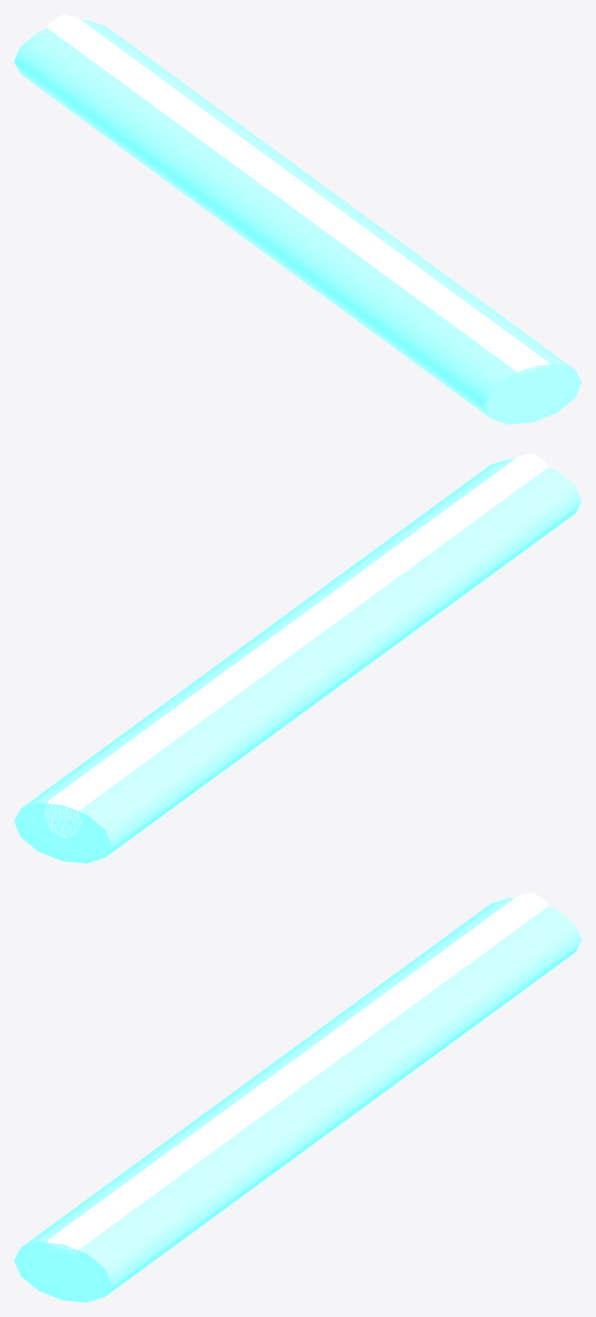
The model's file is shot_laser.glb.
The picture shows the model from 3 angles, top to bottom: view 1: azimuth 30°, elevation 25°; view 2: azimuth 150°, elevation 25°; view 3: azimuth 330°, elevation 25°; orthographic projection.
Visible parts, largest first — view 1: shot_laser; view 2: shot_laser; view 3: shot_laser.
Part boxes in pixels (box(x1,y1,x2,y2)): shot_laser: box(14, 14, 581, 424); shot_laser: box(14, 453, 581, 863); shot_laser: box(14, 892, 581, 1302).
Size of the model in its own units: 0.12 by 0.075 by 1.
